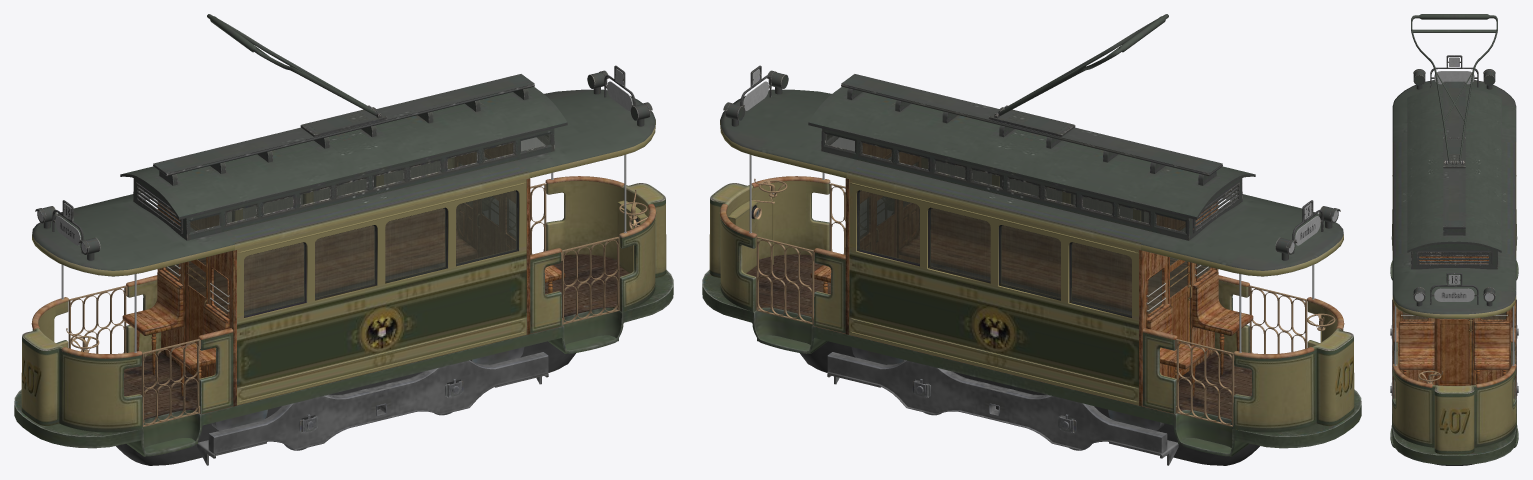
Rendered from veh_streetcar.glb.
3 views of the same model, side by side, from view 1: azimuth 30°, elevation 25°; view 2: azimuth 150°, elevation 25°; view 3: azimuth 270°, elevation 25° (orthographic). The views are drawn at different scales.
Visible parts, largest first — view 1: z_floor, z_roof, z_front, z_windows.001, z_windows.002; view 2: z_floor, z_roof, z_front, z_windows.001, z_windows.002; view 3: z_roof, z_floor, z_front, z_windows.001.
Boxes of the visible parts, <box> form: z_floor: <box>14,158,673,465</box>; z_roof: <box>32,14,655,426</box>; z_front: <box>122,143,565,406</box>; z_windows.001: <box>139,134,550,316</box>; z_windows.002: <box>188,157,498,297</box>; z_floor: <box>702,158,1361,465</box>; z_roof: <box>720,14,1343,426</box>; z_front: <box>810,143,1253,406</box>; z_windows.001: <box>825,134,1236,316</box>; z_windows.002: <box>877,157,1187,297</box>; z_roof: <box>1392,14,1516,398</box>; z_floor: <box>1390,175,1518,465</box>; z_front: <box>1393,256,1515,389</box>; z_windows.001: <box>1402,312,1506,319</box>.
Bounding box in the file's own units: 2 × 1.23 × 0.4345.
6 materials, 6 textured.
